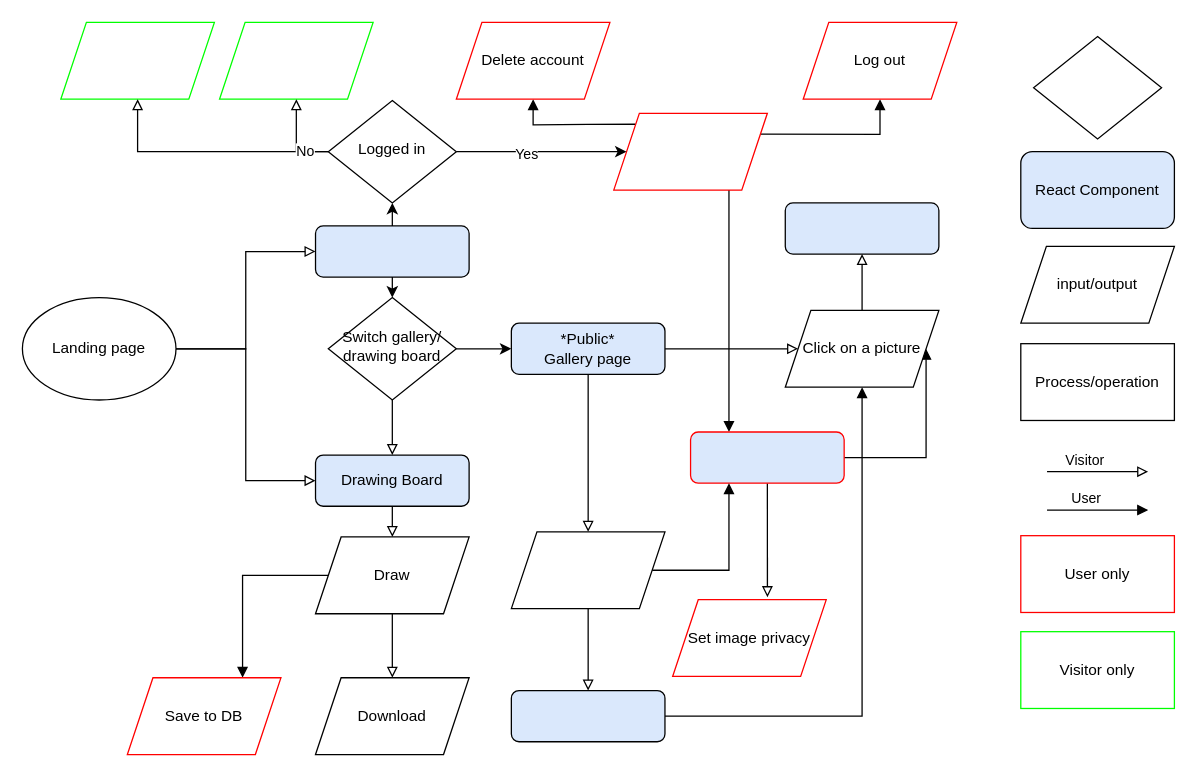
Image size: 1197x777. Some labels were removed from this diagram. Here are the shapes that lost their labels. From the top down, the centre of each, then its label:
point (137, 60): Sign up
point (295, 60): Log in
point (1097, 87): Option/Choice
point (689, 151): User name mpodal menu
point (861, 228): Gallery page w full size image
point (391, 251): Navbar
point (766, 457): *Own* Gallery page
point (587, 570): Click on user
point (587, 715): *User* Gallery page
